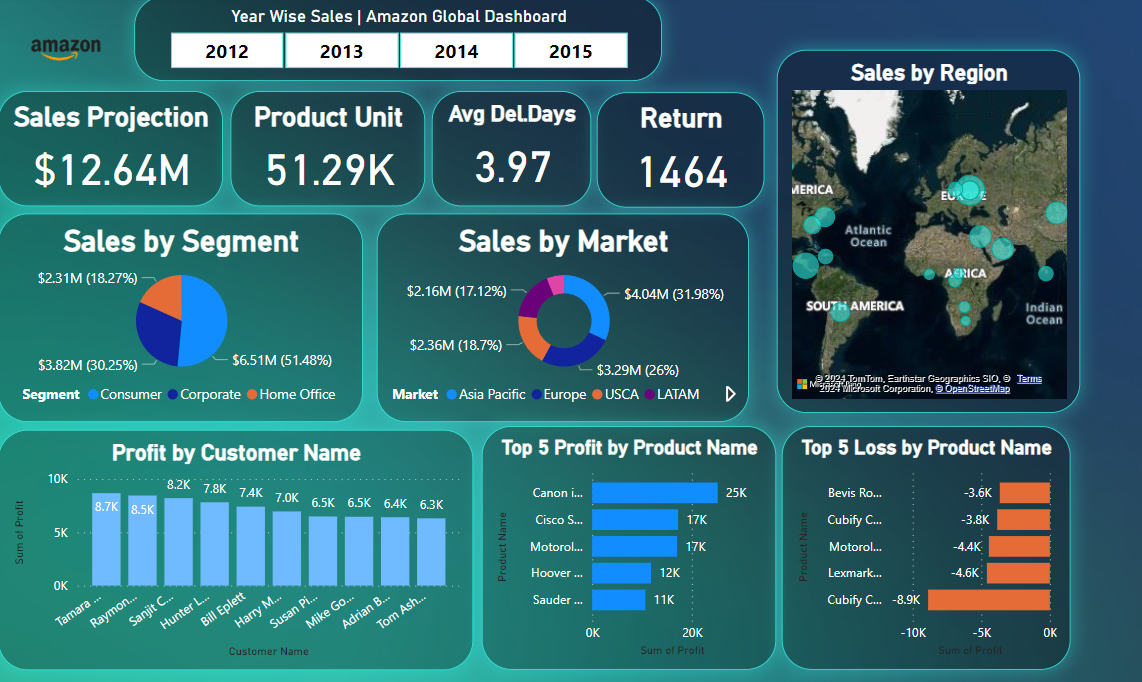

This screenshot's page, from the dashboard's own definition file:
{"tool":"powerbi","page":{"name":"Duplicate of Page 1","canvas":[1280,720],"ordinal":1},"visuals":[{"type":"slicer","title":"Year Wise Sales | Amazon Global Dashboard","fields":{"Values":["Orders.Year"]},"box":[163,0,516,83],"z":0},{"type":"card","title":"Sales Projection","fields":{"Values":["Orders.Sales"]},"box":[0,93,220,113],"z":1000},{"type":"image","box":[0,0,139,100],"z":2000},{"type":"card","title":"Product Unit","fields":{"Values":["Orders.Product Name"]},"box":[227,93,190,113],"z":3000},{"type":"card","title":"KPI","fields":{"Values":["Orders.Quantity"]},"box":[424,93,156,113],"z":4000},{"type":"card","title":"Return","fields":{"Values":["Orders.Ship Date"]},"box":[585,94,164,113],"z":5000},{"type":"pieChart","title":"Sales by Segment","fields":{"Category":["Orders.Segment"],"Y":["Orders.Sales"]},"box":[0,213,357,204],"z":6000},{"type":"donutChart","title":"Sales by Market","fields":{"Y":["Orders.Sales"],"Category":["Orders.Market"]},"box":[371,213,364,204],"z":7000},{"type":"columnChart","title":"Profit by Customer Name","fields":{"Category":["Orders.Customer Name"],"Y":["Orders.Profit"]},"box":[0,424,465,235],"z":8000},{"type":"clusteredBarChart","title":"Top 5 Profit by Product Name","fields":{"Y":["Orders.Profit"],"Category":["Orders.Product Name"]},"box":[473,421,288,238],"z":9000},{"type":"clusteredBarChart","title":"Top 5 Loss by Product Name","fields":{"Y":["Orders.Profit"],"Category":["Orders.Product Name"]},"box":[766,421,282,238],"z":10000},{"type":"map","title":"Sales by Region","fields":{"Category":["Orders.Region"],"Size":["Orders.Sales"]},"box":[749,24,299,383],"z":11000}]}

Visuals, with their boxes on the page's 1280x720 design canvas (x1, y1, x2, y2). These are canvas units, not pixel positions in the 1142x682 screenshot, which may show the page scaled, cropped or inside an application window:
"Year Wise Sales | Amazon Global Dashboard" slicer: crop(163, 0, 679, 83)
"Sales Projection" card: crop(0, 93, 220, 206)
image: crop(0, 0, 139, 100)
"Product Unit" card: crop(227, 93, 417, 206)
"KPI" card: crop(424, 93, 580, 206)
"Return" card: crop(585, 94, 749, 207)
"Sales by Segment" pieChart: crop(0, 213, 357, 417)
"Sales by Market" donutChart: crop(371, 213, 735, 417)
"Profit by Customer Name" columnChart: crop(0, 424, 465, 659)
"Top 5 Profit by Product Name" clusteredBarChart: crop(473, 421, 761, 659)
"Top 5 Loss by Product Name" clusteredBarChart: crop(766, 421, 1048, 659)
"Sales by Region" map: crop(749, 24, 1048, 407)
